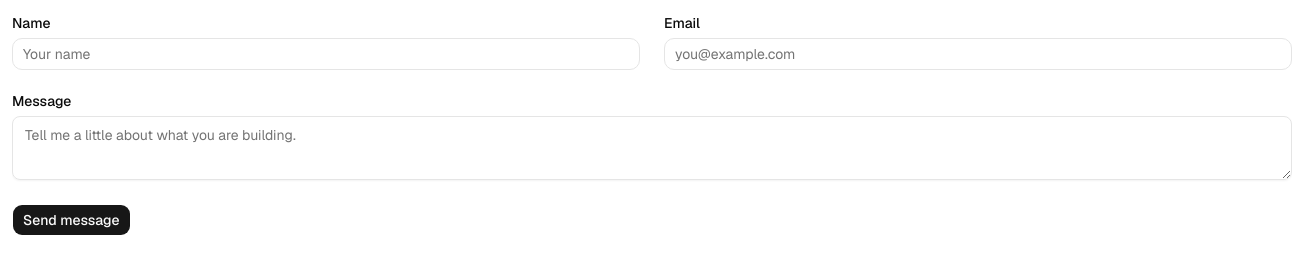
Test: ContactForm › shows a generic retry message and re-enables the button when fetch rejects
Type "New Visitor" into the field labelled "Name" at (326, 54), box [12,38,640,70]
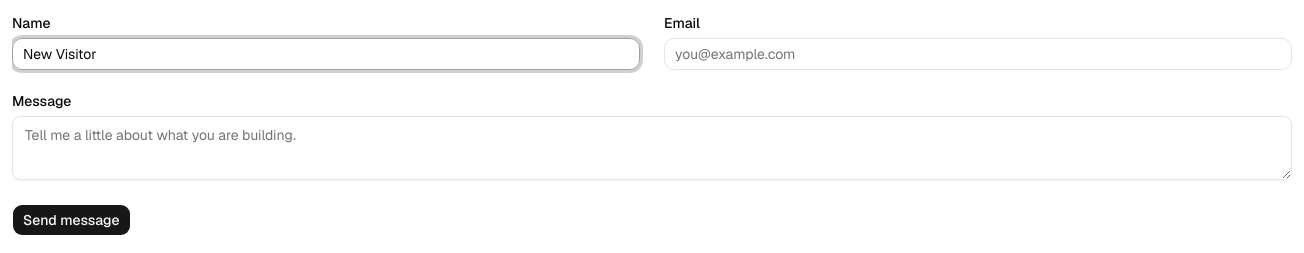
Type "visitor@example.com" into the field labelled "Email" at (978, 54), box [664,38,1292,70]
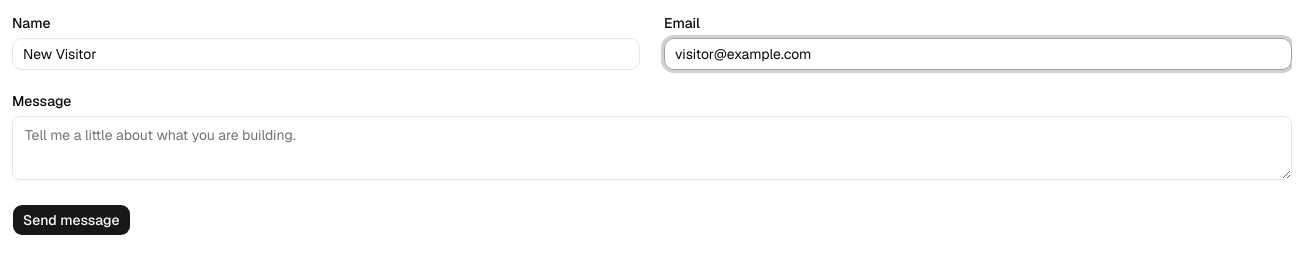
Type "A useful project inquiry." into the text box labelled "Message" at (652, 148), box [12,116,1292,180]
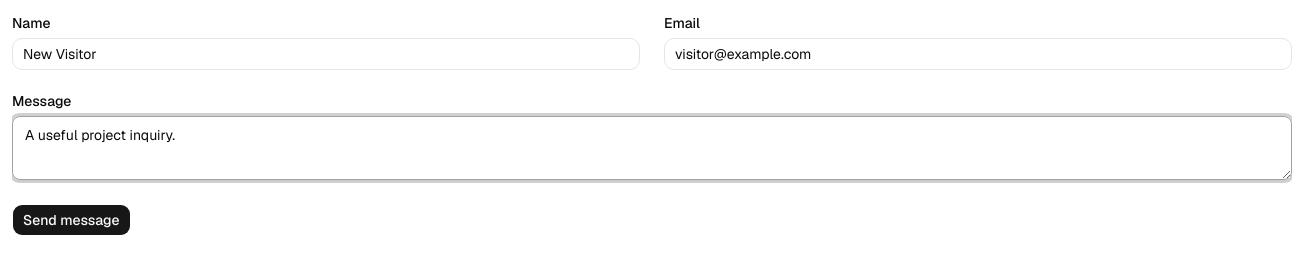
Submit the form "Send message"
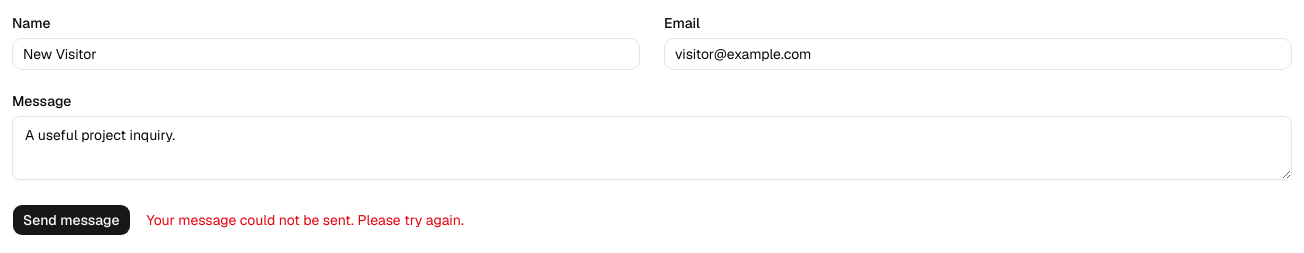
Expected: the button "Send message" is enabled, [12,204,130,236]
Expected: the message reads "Your message could not be sent. Please try again.", [146,211,464,229]
